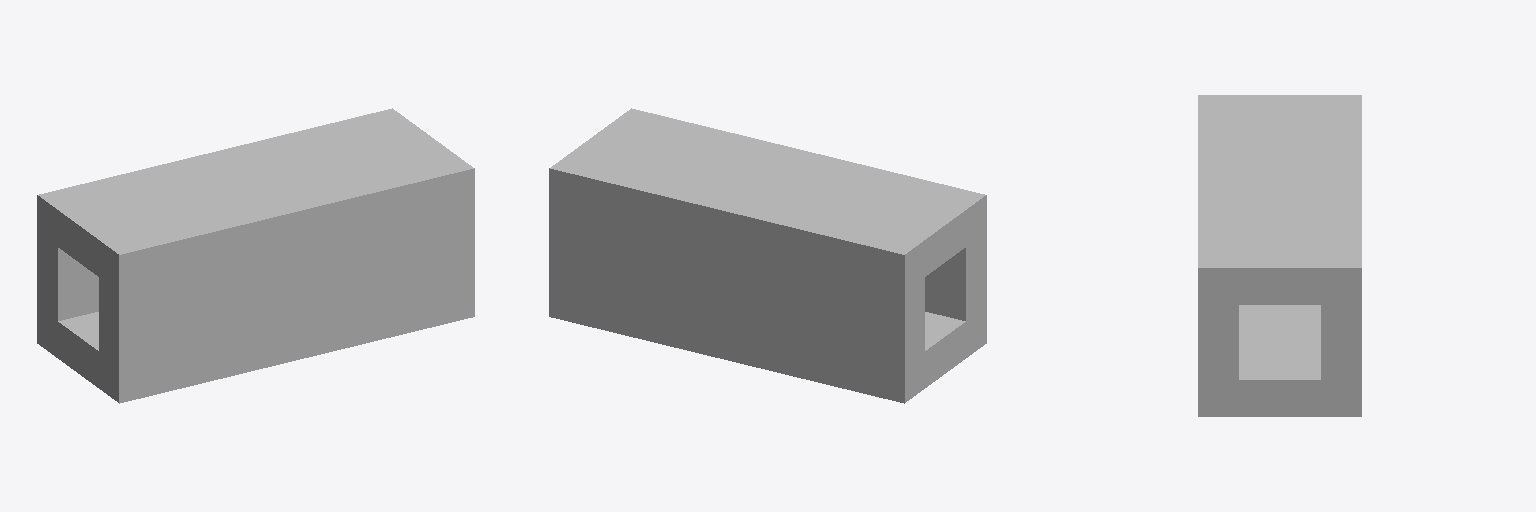
Rendered from log.obj.
3 renders of one model, left to right at view 1: azimuth 30°, elevation 25°; view 2: azimuth 150°, elevation 25°; view 3: azimuth 270°, elevation 25°, orthographic.
Parts seen in each view (by area): view 1: object 1; view 2: object 1; view 3: object 1.
Part boxes in pixels (left/top/right/bottom): object 1: left=37, top=108, right=474, bottom=403; object 1: left=549, top=108, right=986, bottom=403; object 1: left=1198, top=95, right=1361, bottom=416.
Size of the model in its own units: 1 by 0.4 by 0.4.